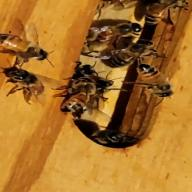Bee: (0, 63, 54, 107), (0, 28, 58, 66), (132, 58, 173, 104), (100, 20, 142, 60), (62, 75, 108, 109)
